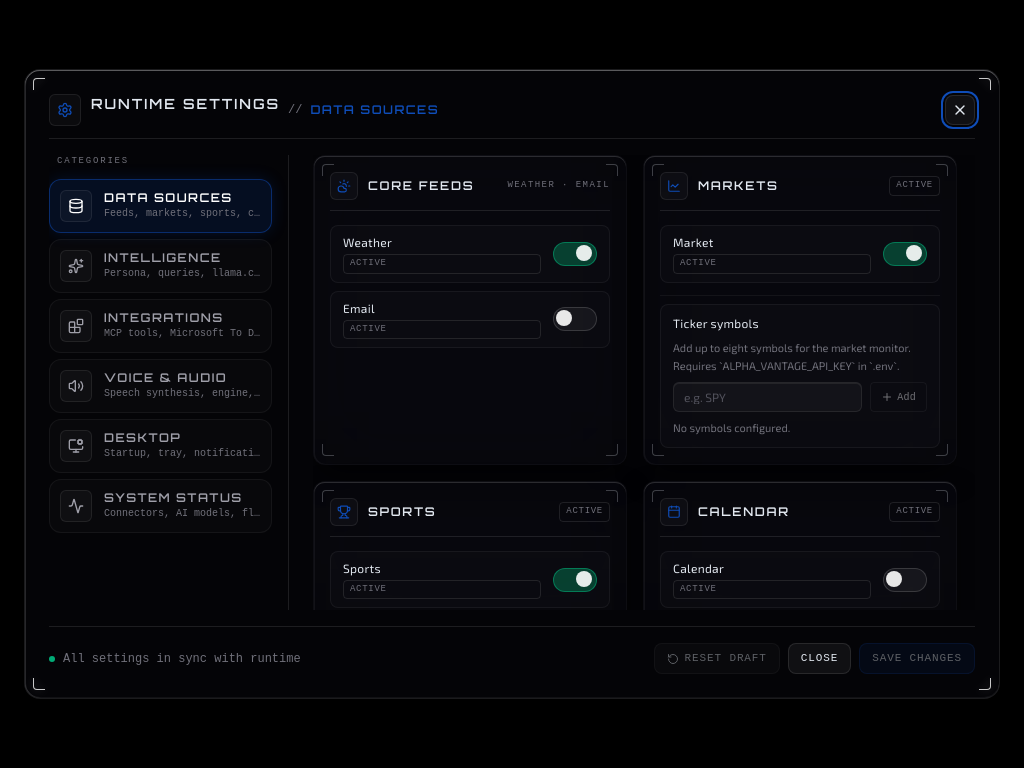
Scenario: SettingsPanel › shows the optional local report folder settings without a client registration control
The image size is (1024, 768).
Click the tab "Integrations MCP tools, Microsoft To Do, reports".
click(160, 326)  # box [49,299,272,353]
(page scrolled)
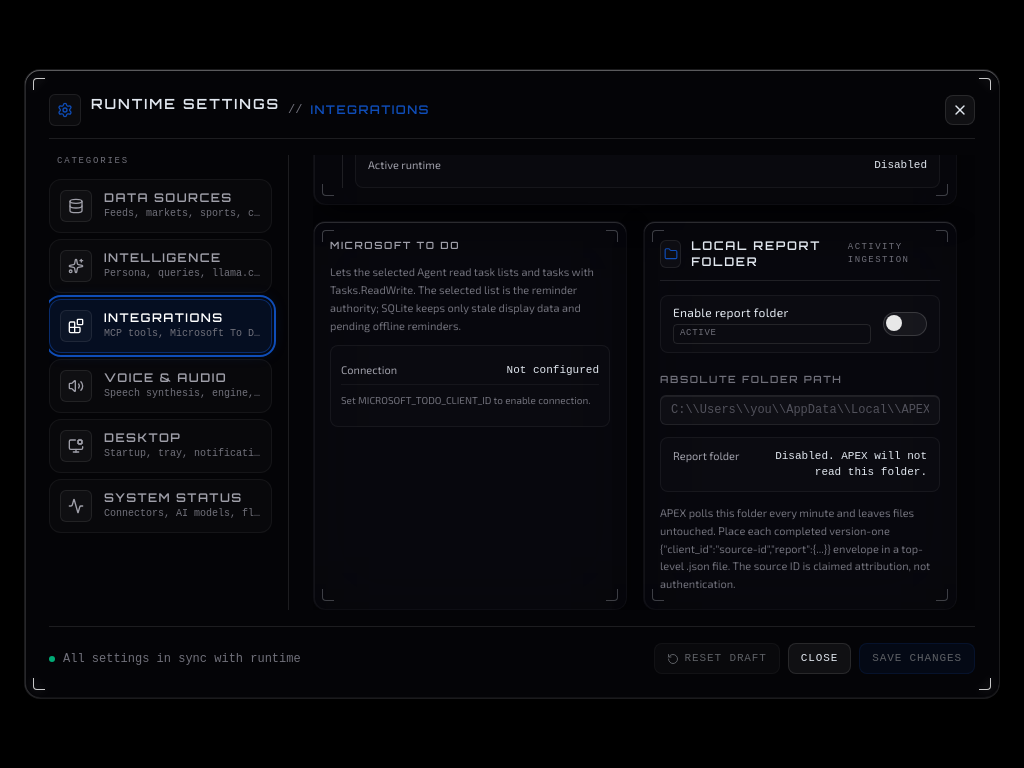
Expected: the field labelled "Absolute folder path" is shown, [660,395,940,425]
Expected: the text "Disabled. APEX will not read this folder." is shown, [775,448,927,481]
